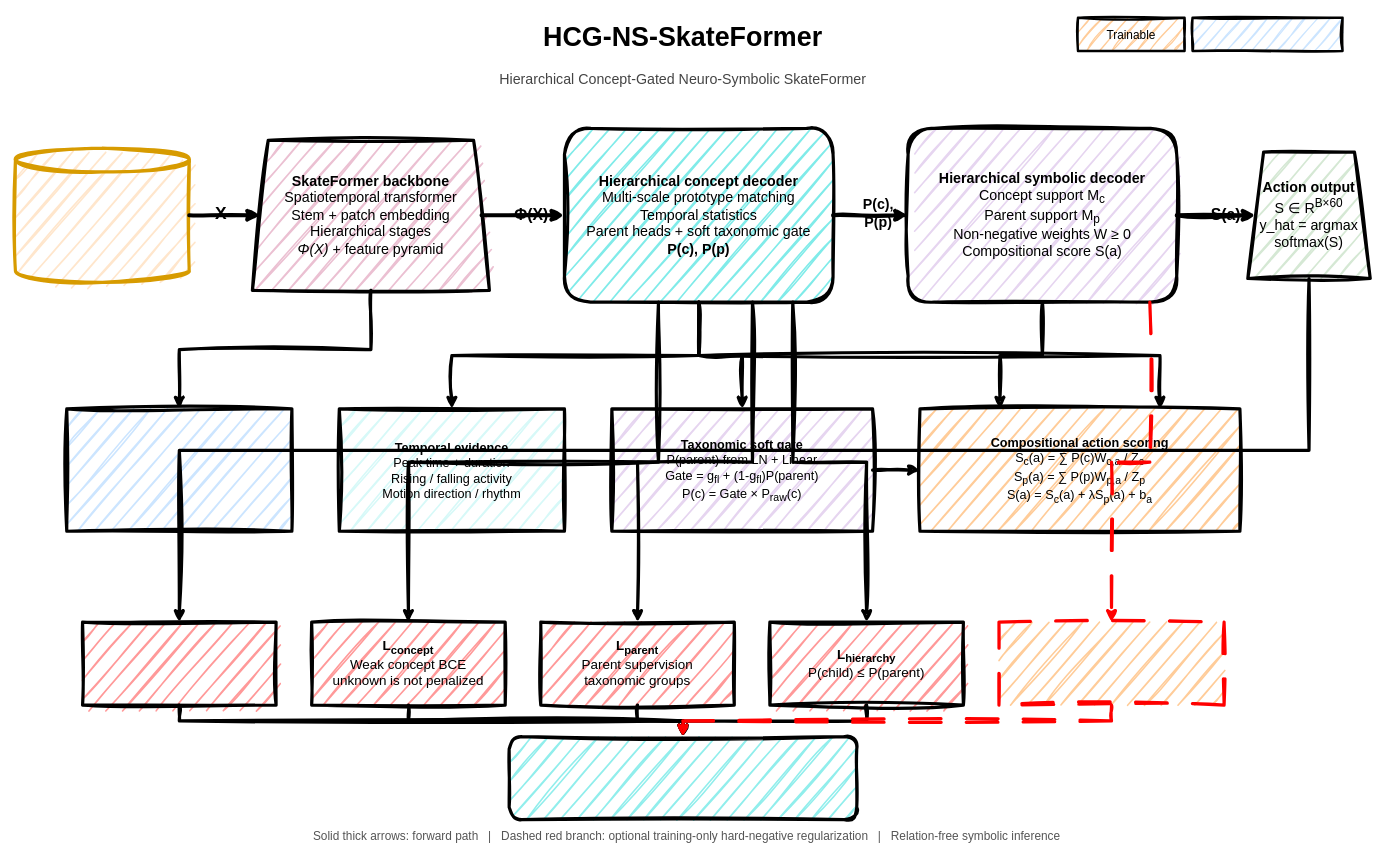
This 1385x860 diagram has some shape labels left out. Here are the shapes that lost their labels. From the top down, the centre of each, then its label:
At point (1267, 34): "Pretrained / frozen".
At point (101, 215): "Skeleton sequence X ∈ R B×C×T×V×M T=64, V=24, M=2".
At point (179, 469): "Prototype matching z = norm(Proj(Φ)) sim(z,C k )/τ K = 92 concept centers".
At point (179, 663): "L CE Action cross-entropy".
At point (1111, 663): "L HN optional Hard-negative margin ablation: λ HN = 0".
At point (682, 778): "Total objective L = L CE + ∑ λ i L i".
